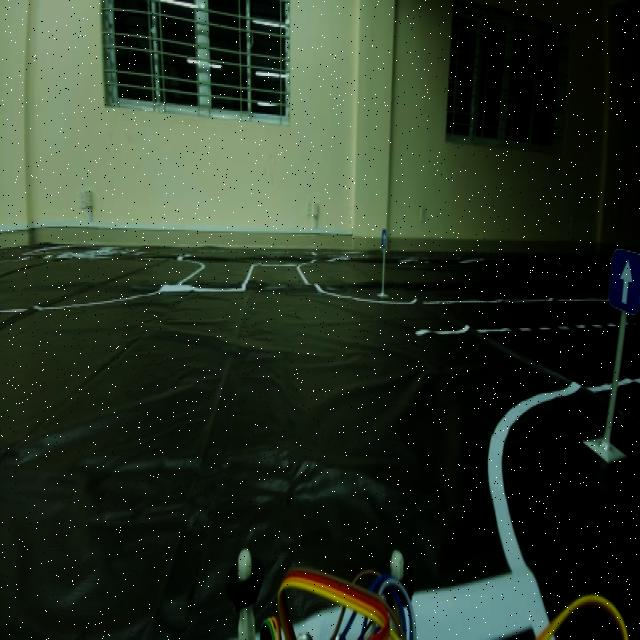onewayroad: (605, 238, 636, 316), (376, 223, 392, 249)
